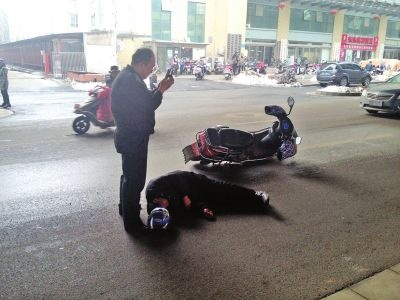falling: (137, 165, 276, 233)
